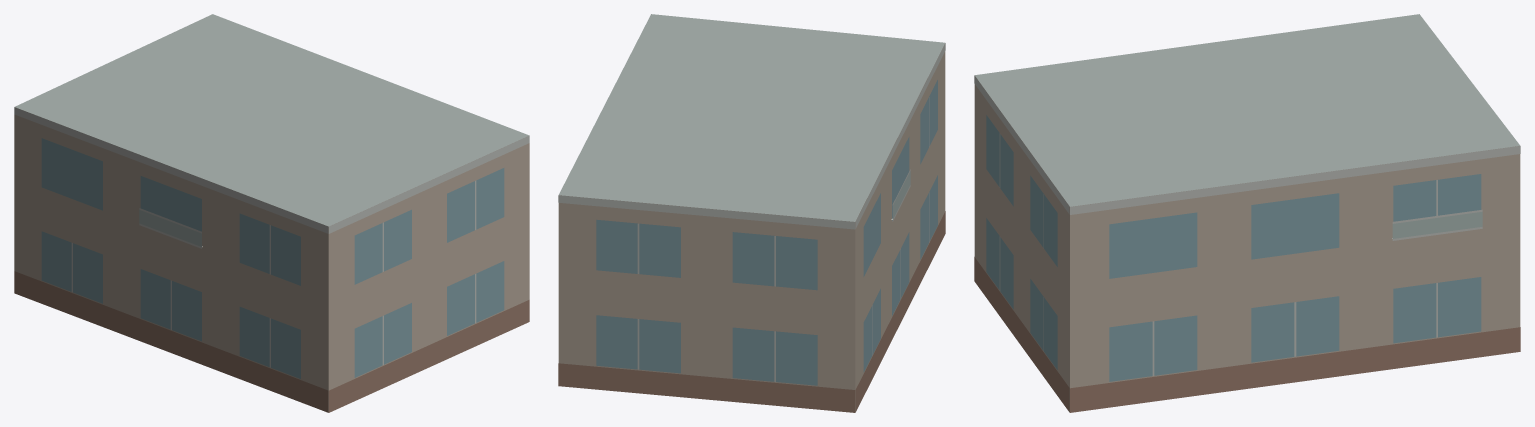
Rendered from survey-upis-32936023.glb.
The picture shows the model from 3 angles, left to right: view 1: azimuth 30°, elevation 25°; view 2: azimuth 150°, elevation 25°; view 3: azimuth 270°, elevation 25°; orthographic projection. The views are drawn at different scales.
Parts seen in each view (by area): view 1: survey-upis-32936023.tmp; view 2: survey-upis-32936023.tmp; view 3: survey-upis-32936023.tmp.
Part boxes in pixels (x1,y1,x2,y2): survey-upis-32936023.tmp: [14, 14, 529, 412]; survey-upis-32936023.tmp: [558, 14, 945, 412]; survey-upis-32936023.tmp: [974, 14, 1520, 412].
Bounding box in the file's own units: 12.25 × 6.1 × 14.66.
